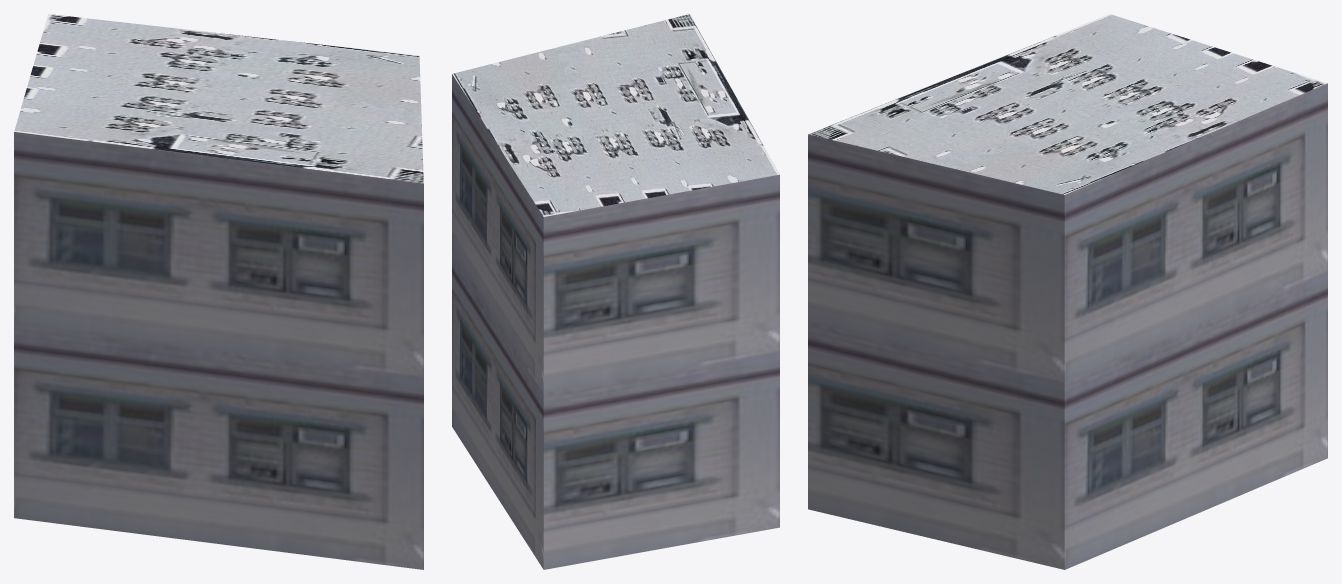
Rendered from ResTex__2382.fbx.
The picture shows the model from 3 angles, left to right: view 1: azimuth 30°, elevation 25°; view 2: azimuth 150°, elevation 25°; view 3: azimuth 270°, elevation 25°; orthographic projection. The views are drawn at different scales.
Parts seen in each view (by area): view 1: CityEngineMaterial_1_m, CityEngineMaterial_8_m; view 2: CityEngineMaterial_1_m, CityEngineMaterial_8_m; view 3: CityEngineMaterial_1_m, CityEngineMaterial_8_m.
Boxes of the visible parts, left/top/right/bottom form: CityEngineMaterial_1_m: left=14, top=132, right=423, bottom=569; CityEngineMaterial_8_m: left=14, top=14, right=423, bottom=183; CityEngineMaterial_1_m: left=452, top=74, right=779, bottom=569; CityEngineMaterial_8_m: left=452, top=14, right=779, bottom=216; CityEngineMaterial_1_m: left=808, top=83, right=1327, bottom=569; CityEngineMaterial_8_m: left=808, top=14, right=1327, bottom=194.
Bounding box in the file's own units: 6.21 × 6 × 7.54.
Materials: 2 (2 with a texture image).
